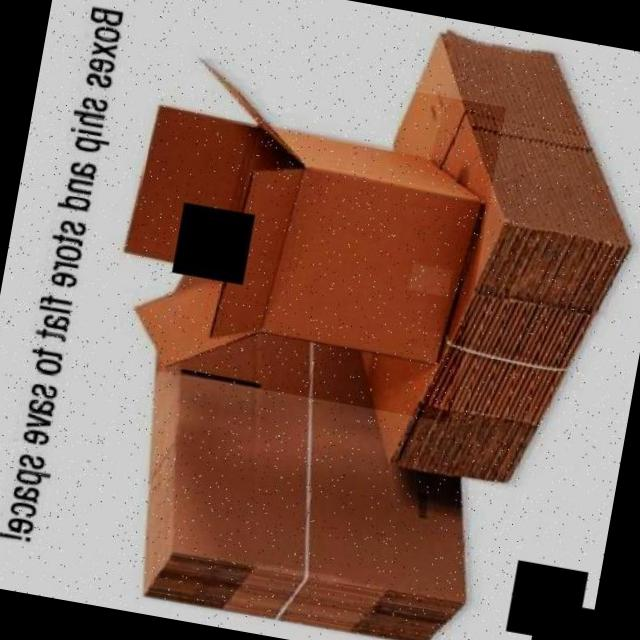box: (102, 46, 506, 423)
